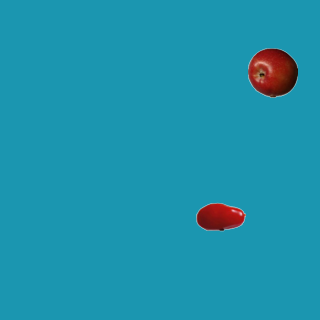Apple Braeburn: (247, 47, 297, 97)
Tomato 2: (195, 191, 245, 241)
